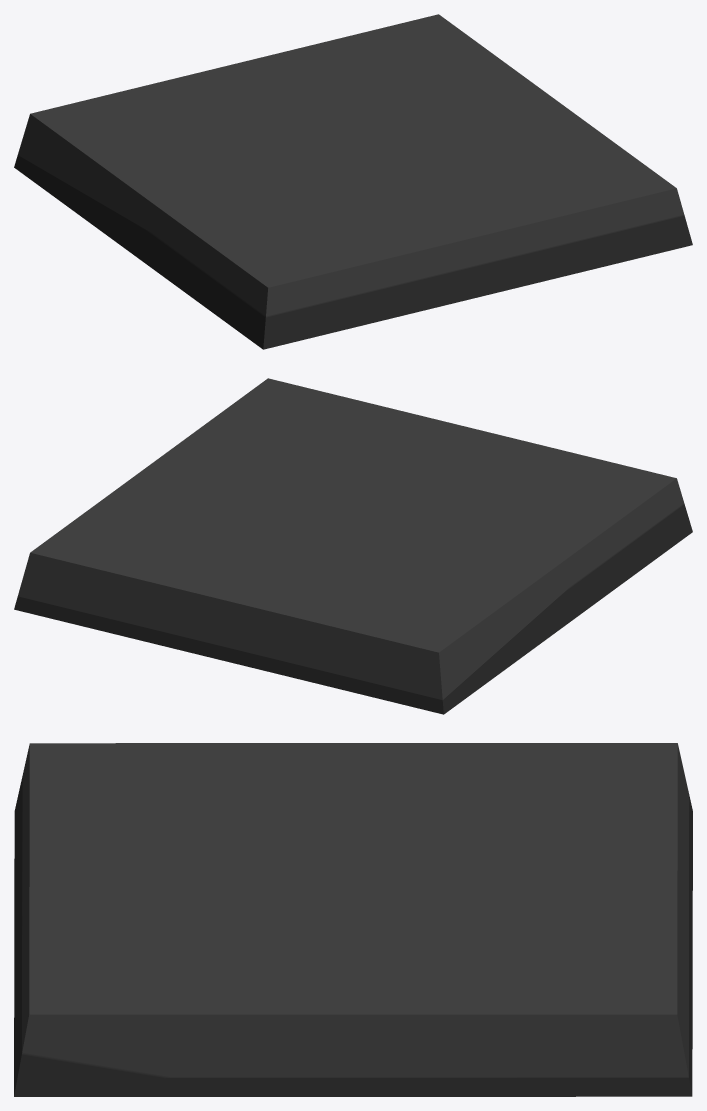
File: dashboard.glb
3 views of the same model, one above another, from view 1: azimuth 30°, elevation 25°; view 2: azimuth 150°, elevation 25°; view 3: azimuth 270°, elevation 25° (orthographic). The views are drawn at different scales.
Parts seen in each view (by area): view 1: dj_equipment.001; view 2: dj_equipment.001; view 3: dj_equipment.001.
Part boxes in pixels (bbox=[...]): dj_equipment.001: bbox=[14, 14, 692, 349]; dj_equipment.001: bbox=[14, 378, 692, 714]; dj_equipment.001: bbox=[14, 743, 692, 1096].
Size of the model in its own units: 0.9954 by 0.1224 by 1.
Materials: 1 (1 with a texture image).
